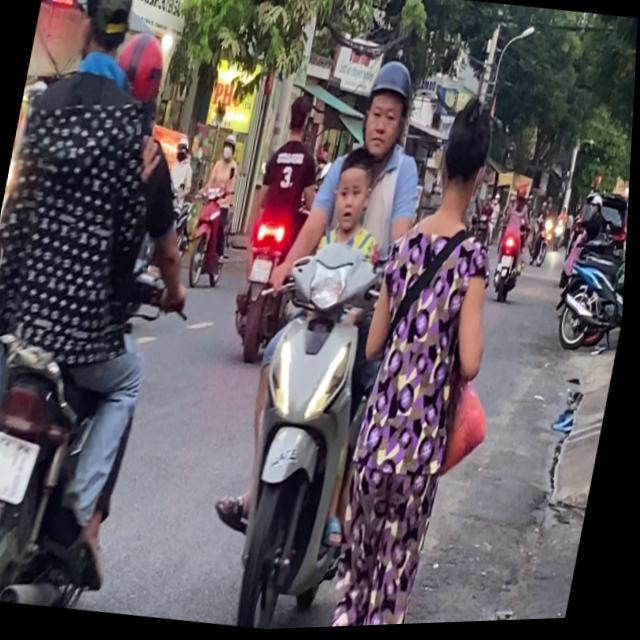helmet: (356, 58, 421, 163), (109, 27, 174, 117), (221, 133, 240, 162)
licenseplate: (0, 0, 246, 620), (199, 44, 454, 633), (225, 86, 337, 369), (183, 130, 253, 293)
motorcyclist: (327, 143, 383, 242), (69, 0, 140, 72), (285, 93, 315, 141)
nohelmet: (0, 429, 44, 504), (252, 259, 276, 285)
